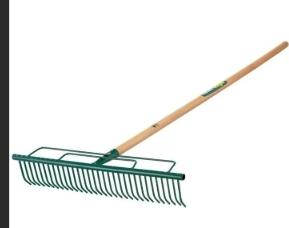RATEAU: (8, 7, 289, 228)
